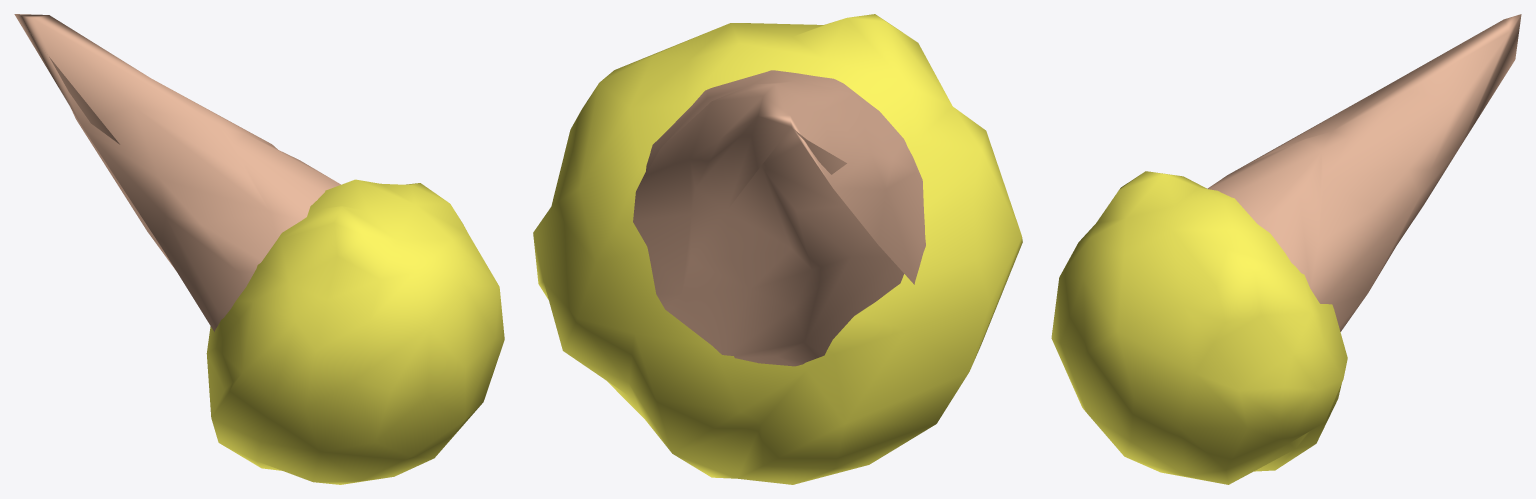
File: cono_LOD2.fbx
3 renders of one model, left to right at view 1: azimuth 30°, elevation 25°; view 2: azimuth 150°, elevation 25°; view 3: azimuth 270°, elevation 25°, orthographic. The views are drawn at different scales.
Parts seen in each view (by area): view 1: cono; view 2: cono; view 3: cono.
Part boxes in pixels (<box>): cono: <box>14,14,504,484</box>; cono: <box>533,14,1022,484</box>; cono: <box>1051,14,1521,484</box>.
Bounding box in the file's own units: 51.11 × 61.15 × 69.49.
